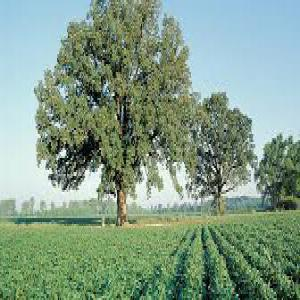Tree: (31, 0, 191, 232), (183, 82, 256, 216), (255, 128, 299, 216)
